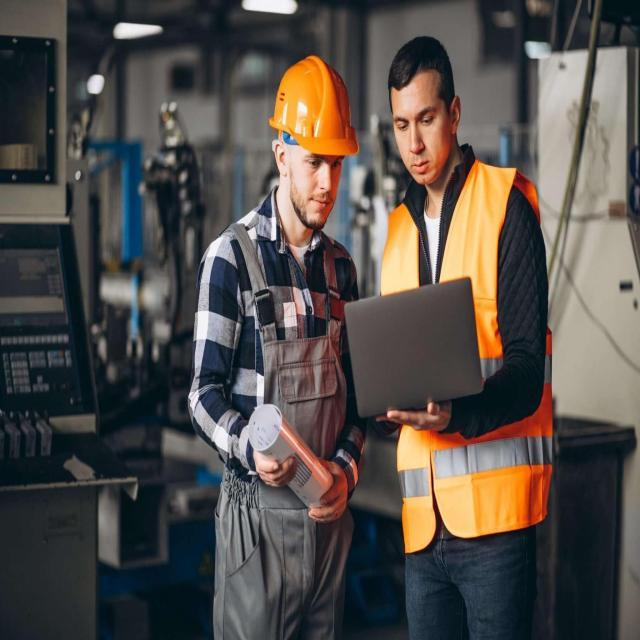Helmet: (265, 53, 362, 220)
NoHelmet: (382, 30, 470, 185)
NoVest: (197, 221, 366, 516)
Vest: (380, 178, 553, 530)
